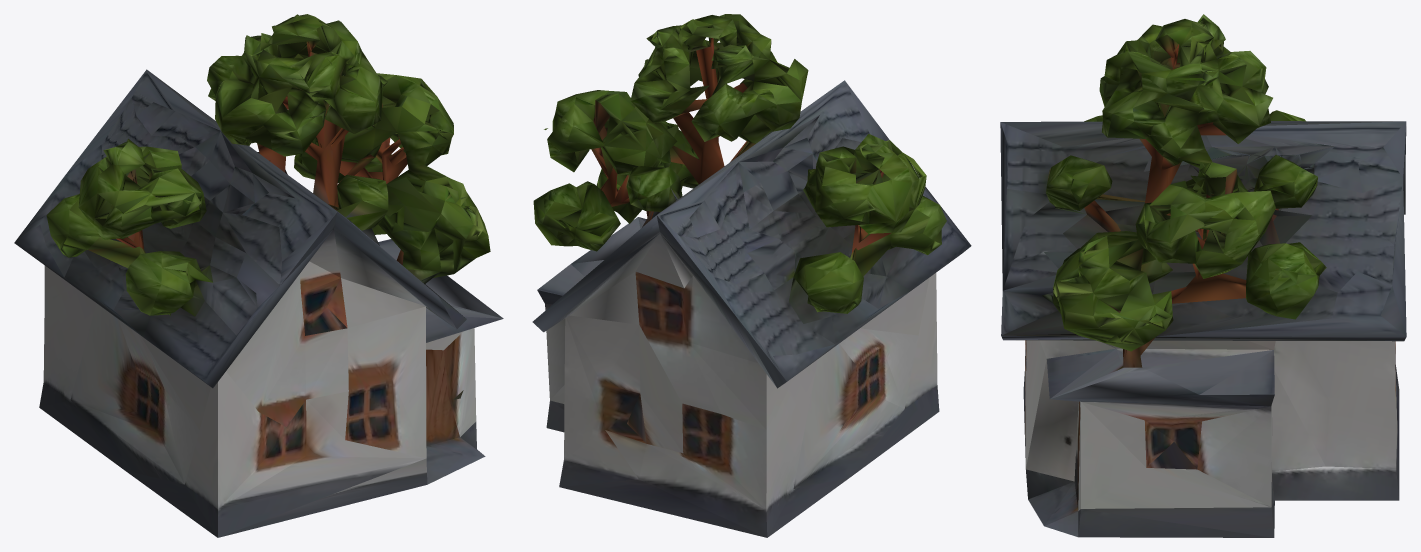
The model's file is cottage.glb.
The picture shows the model from 3 angles, left to right: view 1: azimuth 30°, elevation 25°; view 2: azimuth 150°, elevation 25°; view 3: azimuth 270°, elevation 25°; orthographic projection. The views are drawn at different scales.
Parts seen in each view (by area): view 1: tripo_node_135ae793; view 2: tripo_node_135ae793; view 3: tripo_node_135ae793.
Part boxes in pixels (box(x1,y1,x2,y2)): tripo_node_135ae793: box(14, 14, 503, 537); tripo_node_135ae793: box(532, 14, 971, 537); tripo_node_135ae793: box(1000, 14, 1406, 537).
Size of the model in its own units: 0.8775 by 1 by 0.8293.
1 material, 1 textured.
